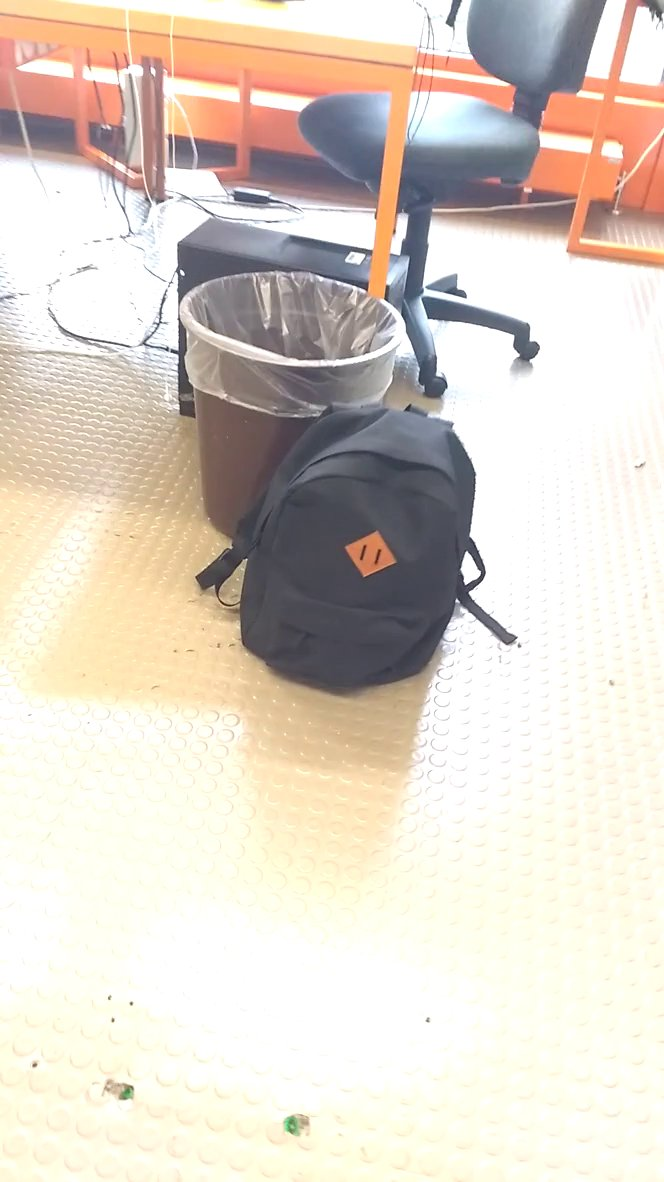bag: (198, 392, 507, 697)
bin: (171, 259, 423, 463)
chair: (297, 1, 629, 398)
